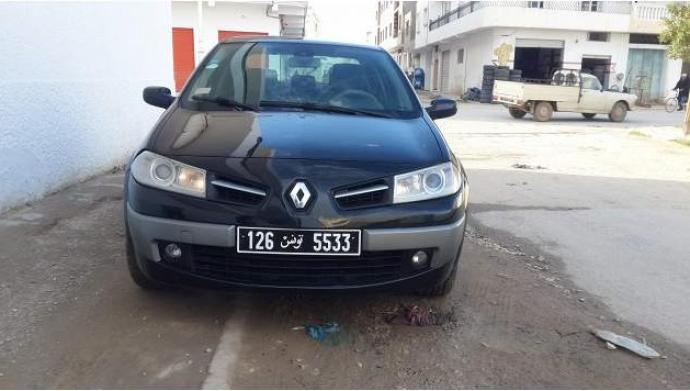LP: (234, 222, 364, 260)
